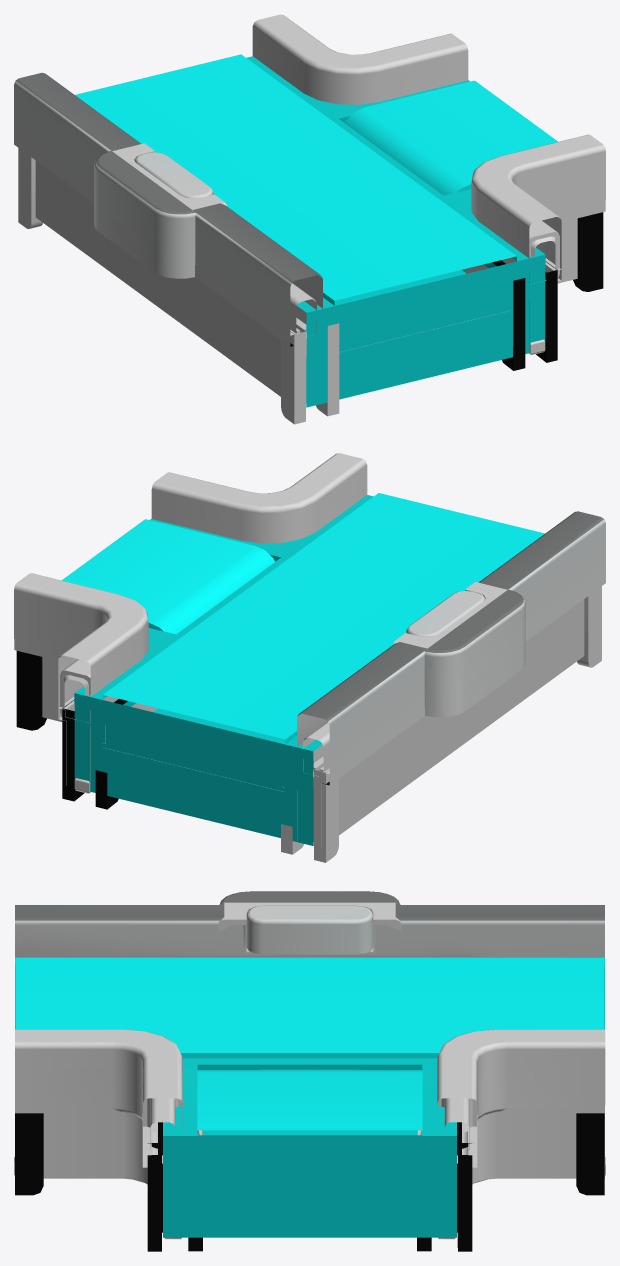
Rendered from Splitter1To2RInternalVariant.gltf.
The picture shows the model from 3 angles, top to bottom: view 1: azimuth 30°, elevation 25°; view 2: azimuth 150°, elevation 25°; view 3: azimuth 270°, elevation 25°; orthographic projection. The views are drawn at different scales.
Visible parts, largest first — view 1: Splitter_1to2Right_Belt_LOD0, Splitter_DefaultBorder_Layer0_LOD0.001, Splitter_1to2Border_Layer0_LOD0.001, Splitter_DefaultBorder_Layer1_LOD0.001, Splitter_1to2Border_Layer2_LOD0.001, Splitter_1to2Border_Layer1_LOD0.001, Splitter_DefaultBorder_Layer2_LOD0.001, Splitter_1to2Right_Pusher_LOD0.005; view 2: Splitter_1to2Right_Belt_LOD0, Splitter_DefaultBorder_Layer0_LOD0.001, Splitter_1to2Border_Layer0_LOD0.001, Splitter_DefaultBorder_Layer1_LOD0.001, Splitter_1to2Border_Layer2_LOD0.001, Splitter_1to2Border_Layer1_LOD0.001, Splitter_DefaultBorder_Layer2_LOD0.001, Splitter_1to2Right_Pusher_LOD0.005; view 3: Splitter_1to2Right_Belt_LOD0, Splitter_DefaultBorder_Layer1_LOD0.001, Splitter_DefaultBorder_Layer0_LOD0.001, Splitter_1to2Border_Layer1_LOD0.001, Splitter_DefaultBorder_Layer2_LOD0.001, Splitter_1to2Border_Layer0_LOD0.001, Splitter_1to2Right_Pusher_LOD0.005, Splitter_1to2Border_Layer2_LOD0.001.
Part boxes in pixels (bbox=[...]): Splitter_1to2Right_Belt_LOD0: bbox=[75, 54, 557, 305]; Splitter_DefaultBorder_Layer0_LOD0.001: bbox=[246, 14, 605, 407]; Splitter_1to2Border_Layer0_LOD0.001: bbox=[14, 73, 322, 396]; Splitter_DefaultBorder_Layer1_LOD0.001: bbox=[18, 20, 605, 424]; Splitter_1to2Border_Layer2_LOD0.001: bbox=[94, 143, 316, 336]; Splitter_1to2Border_Layer1_LOD0.001: bbox=[19, 73, 322, 333]; Splitter_DefaultBorder_Layer2_LOD0.001: bbox=[249, 44, 559, 352]; Splitter_1to2Right_Pusher_LOD0.005: bbox=[134, 152, 213, 198]; Splitter_1to2Right_Belt_LOD0: bbox=[62, 493, 544, 743]; Splitter_DefaultBorder_Layer0_LOD0.001: bbox=[14, 453, 372, 845]; Splitter_1to2Border_Layer0_LOD0.001: bbox=[297, 516, 605, 847]; Splitter_DefaultBorder_Layer1_LOD0.001: bbox=[14, 459, 601, 862]; Splitter_1to2Border_Layer2_LOD0.001: bbox=[303, 582, 525, 776]; Splitter_1to2Border_Layer1_LOD0.001: bbox=[297, 511, 600, 772]; Splitter_DefaultBorder_Layer2_LOD0.001: bbox=[60, 483, 368, 791]; Splitter_1to2Right_Pusher_LOD0.005: bbox=[406, 591, 485, 637]; Splitter_1to2Right_Belt_LOD0: bbox=[15, 958, 604, 1132]; Splitter_DefaultBorder_Layer1_LOD0.001: bbox=[14, 957, 605, 1251]; Splitter_DefaultBorder_Layer0_LOD0.001: bbox=[15, 957, 604, 1184]; Splitter_1to2Border_Layer1_LOD0.001: bbox=[15, 892, 604, 956]; Splitter_DefaultBorder_Layer2_LOD0.001: bbox=[15, 957, 604, 1160]; Splitter_1to2Border_Layer0_LOD0.001: bbox=[15, 892, 604, 966]; Splitter_1to2Right_Pusher_LOD0.005: bbox=[246, 906, 373, 954]; Splitter_1to2Border_Layer2_LOD0.001: bbox=[218, 891, 401, 951].
Bounding box in the file's own units: 0.8419 × 0.2901 × 1.
